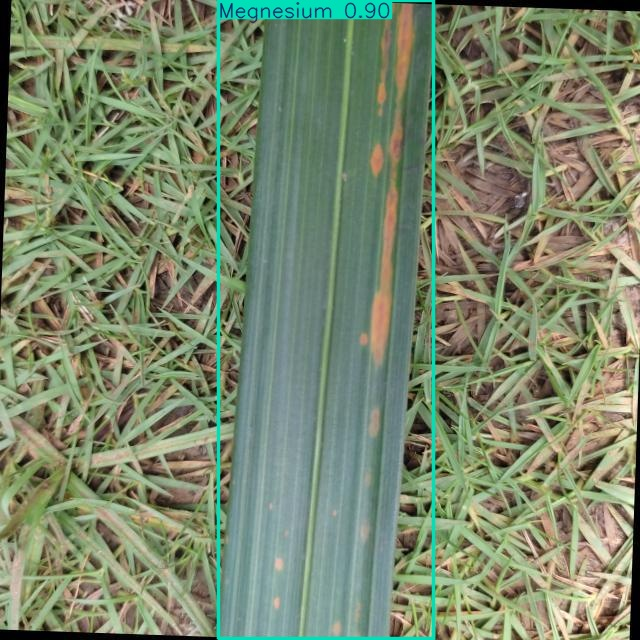Megnesium: (219, 0, 434, 639)
